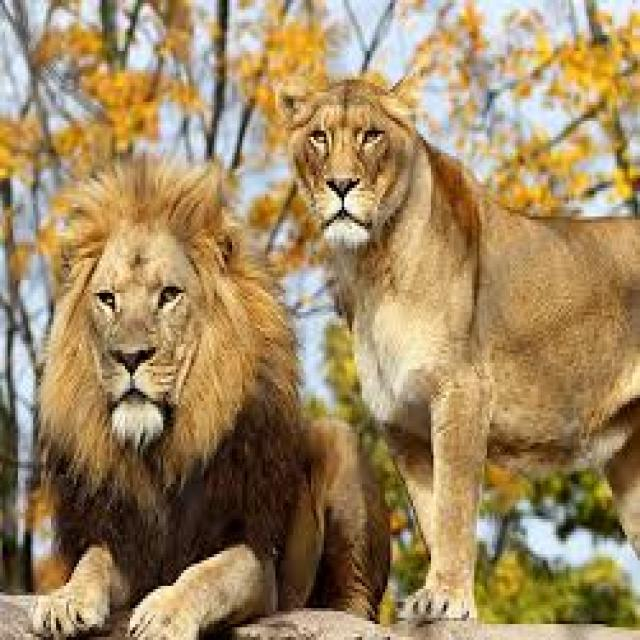Lion: (22, 161, 389, 637)
